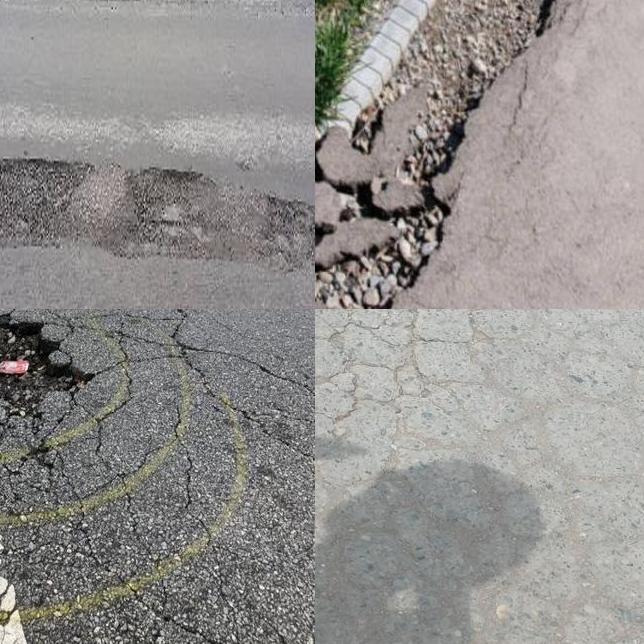Lubang: (0, 162, 315, 275), (0, 315, 89, 422)
Pinggir: (315, 0, 587, 309)
Retak Buaya: (315, 309, 644, 461)
